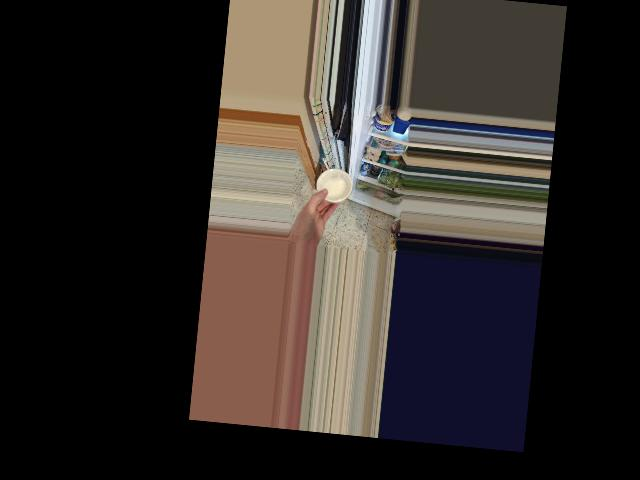cotage: (317, 165, 354, 205)
